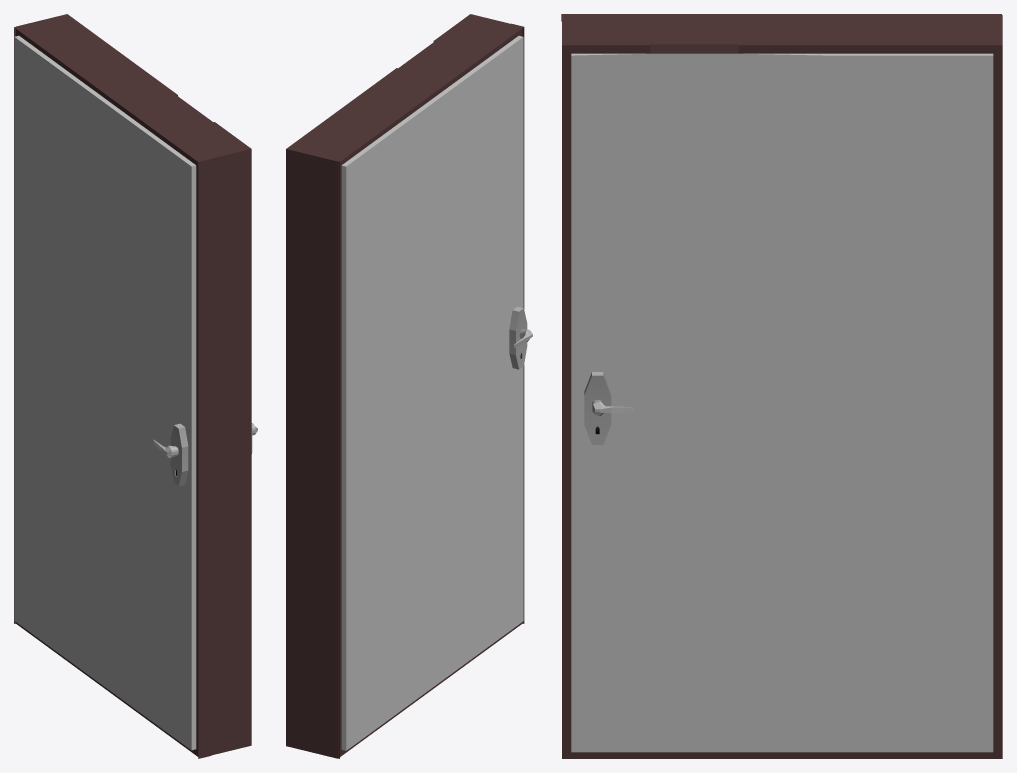
File: Door B.fbx
3 views of the same model, side by side, from view 1: azimuth 30°, elevation 25°; view 2: azimuth 150°, elevation 25°; view 3: azimuth 270°, elevation 25° (orthographic). The views are drawn at different scales.
Visible parts, largest first — view 1: Door B; view 2: Door B; view 3: Door B.
Boxes of the visible parts, bbox=[...] form: Door B: bbox=[14, 14, 257, 758]; Door B: bbox=[286, 14, 532, 758]; Door B: bbox=[561, 14, 1002, 758].
Size of the model in its own units: 81.38 by 497 by 279.
